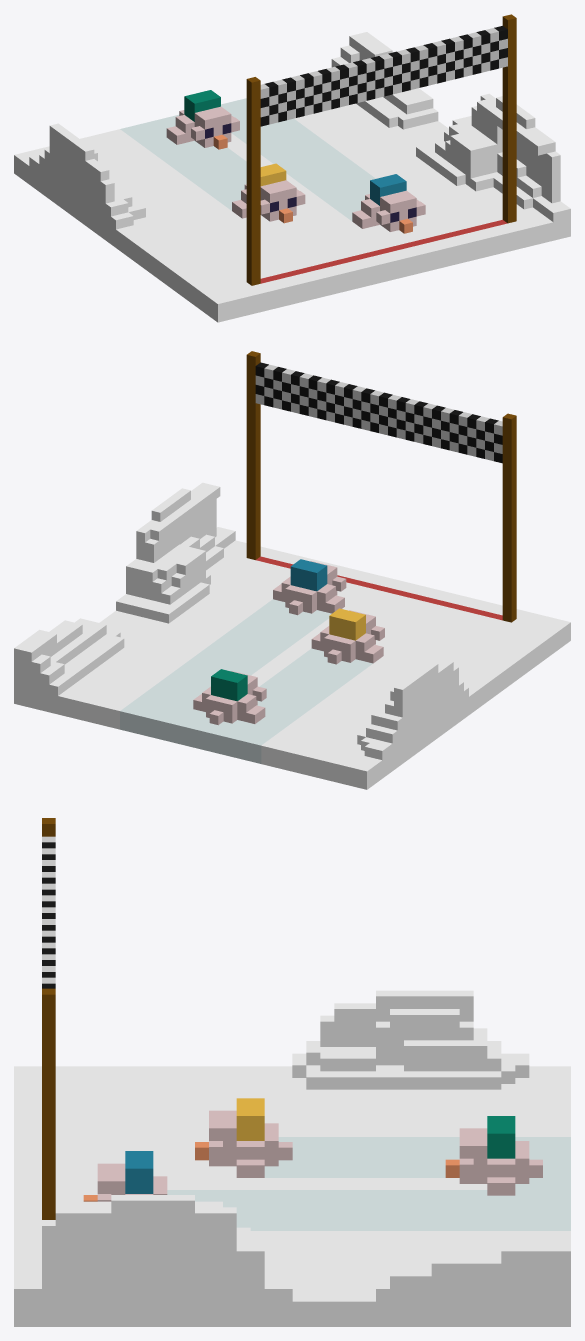
File: seal baby race.obj
3 views of the same model, one above another, from view 1: azimuth 30°, elevation 25°; view 2: azimuth 150°, elevation 25°; view 3: azimuth 270°, elevation 25° (orthographic). The views are drawn at different scales.
Bounding box in the file's own units: 40 × 24 × 40.
Materials: 1 (1 with a texture image).
